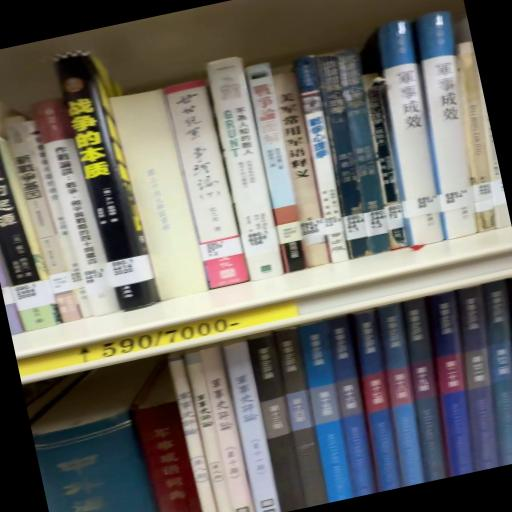backward: (109, 91, 208, 308)
book: (202, 60, 289, 289), (167, 81, 253, 296), (222, 343, 287, 512), (196, 350, 257, 512), (132, 398, 206, 512), (486, 280, 512, 462)
